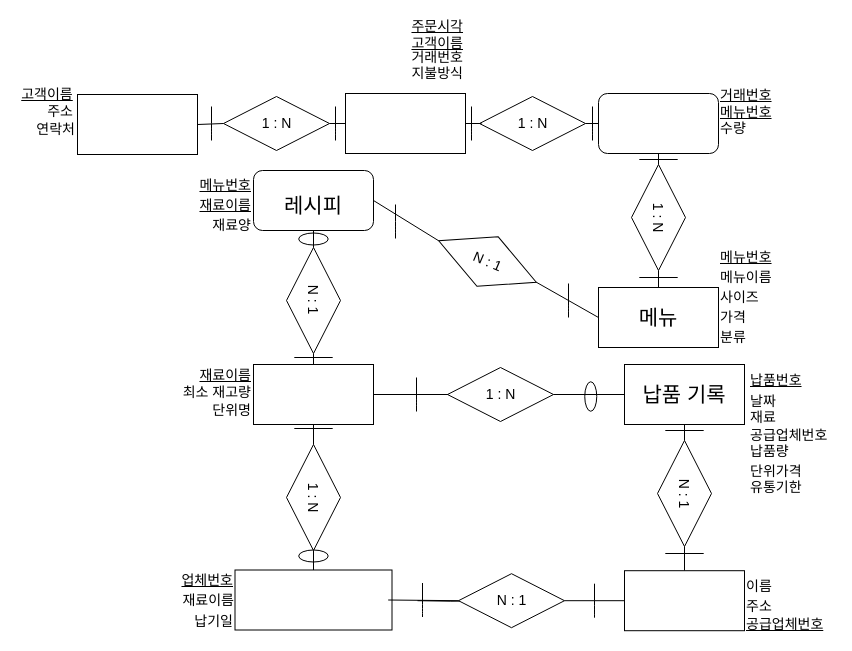
Some shapes in this 852 by 651 pixel diagram are drawn without their labels. Each missing label, with the centre of its shape:
"거래 항목" belongs at (658,123).
"고객" belongs at (137,124).
"공급 업체 재료" belongs at (313,599).
"공급업체" belongs at (684,600).
"재료 재고" belongs at (313,394).
"주문" belongs at (405,123).
